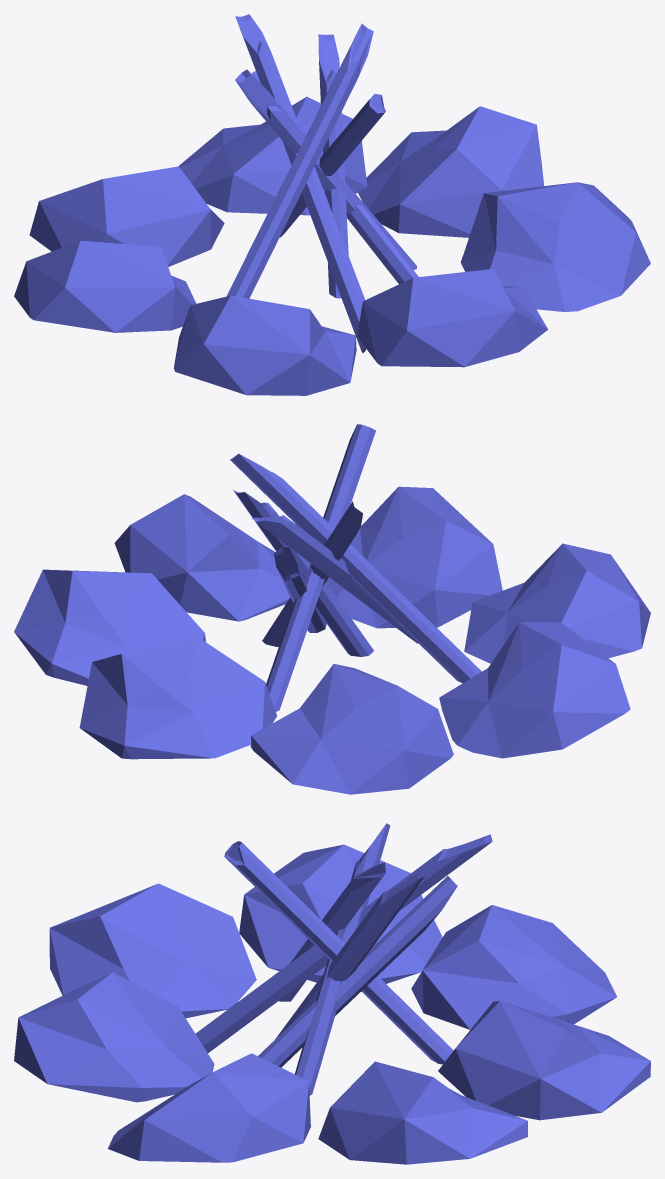
The model's file is Transparent_Camp_Fire.fbx.
3 renders of one model, top to bottom at view 1: azimuth 30°, elevation 25°; view 2: azimuth 150°, elevation 25°; view 3: azimuth 270°, elevation 25°, orthographic. The views are drawn at different scales.
Visible parts, largest first — view 1: Transparent_Camp_Fire; view 2: Transparent_Camp_Fire; view 3: Transparent_Camp_Fire.
Boxes of the visible parts, x1,y1,x2,y2 form: Transparent_Camp_Fire: (14, 14, 650, 395); Transparent_Camp_Fire: (14, 424, 650, 794); Transparent_Camp_Fire: (14, 823, 650, 1164).
Bounding box in the file's own units: 87.54 × 35.85 × 82.51.
